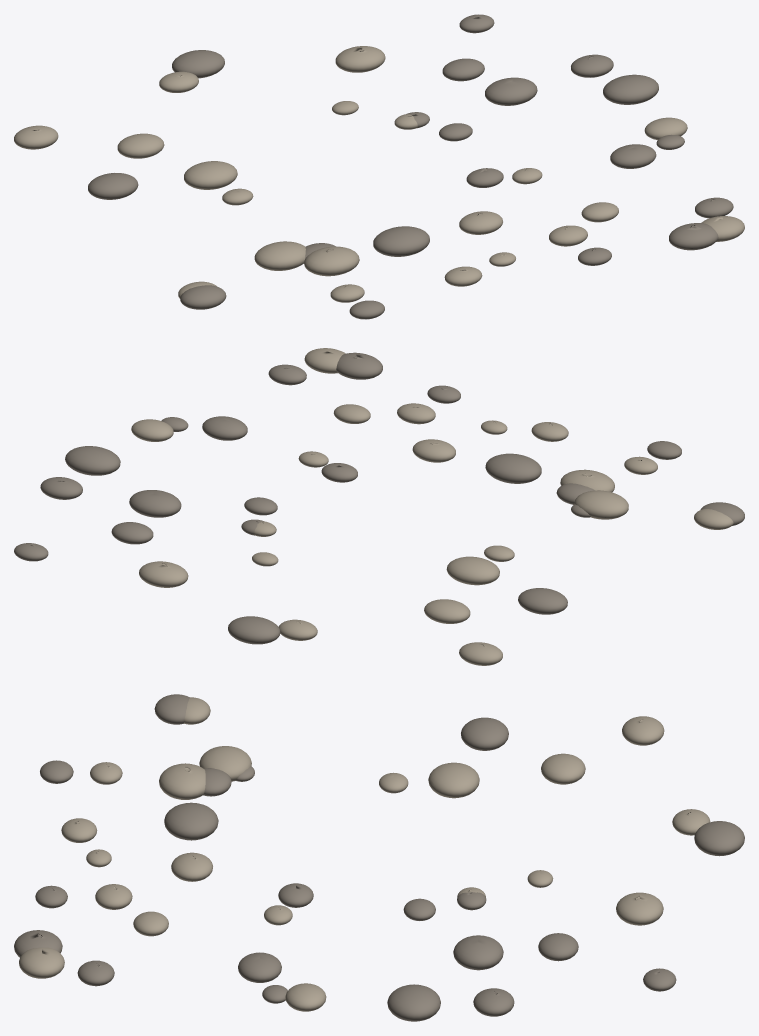
Rendered from f22-shingle-scatter.glb.
3 renders of one model, top to bottom at view 1: azimuth 30°, elevation 25°; view 2: azimuth 150°, elevation 25°; view 3: azimuth 270°, elevation 25°, orthographic. The views are drawn at different scales.
Parts seen in each view (by area): view 1: part1, part0; view 2: part1, part0; view 3: part1, part0.
Boxes of the visible parts, <box> form: part1: <box>88,14,733,319</box>; part0: <box>14,46,744,302</box>; part1: <box>14,352,744,644</box>; part0: <box>131,348,733,665</box>; part1: <box>14,694,744,1021</box>; part0: <box>19,697,710,1011</box>.
Size of the model in its own units: 2003 by 71.9 by 1931.
